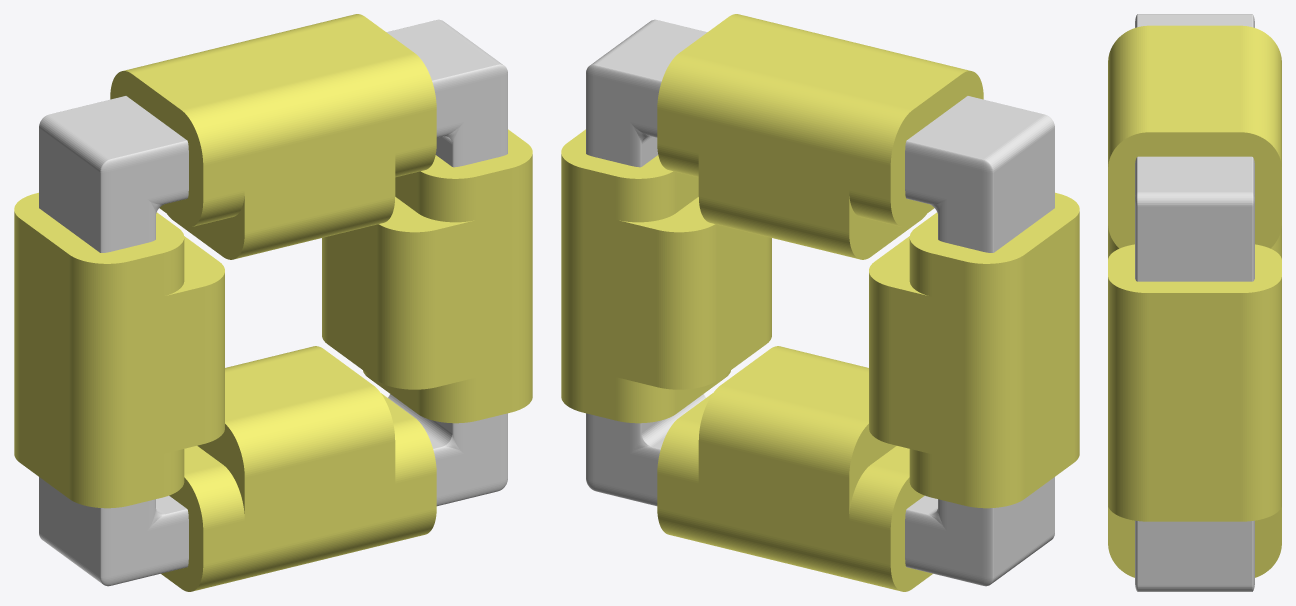
Rendered from CombinedCorrector.glb.
3 renders of one model, left to right at view 1: azimuth 30°, elevation 25°; view 2: azimuth 150°, elevation 25°; view 3: azimuth 270°, elevation 25°, orthographic. The views are drawn at different scales.
Parts seen in each view (by area): view 1: magnets, frame; view 2: magnets, frame; view 3: magnets, frame.
Part boxes in pixels (x1,y1,x2,y2): magnets: [14, 14, 532, 591]; frame: [39, 19, 507, 586]; magnets: [561, 14, 1079, 591]; frame: [586, 19, 1054, 586]; magnets: [1108, 25, 1281, 577]; frame: [1135, 14, 1254, 591].
Bounding box in the file's own units: 2.47 × 2.47 × 0.8686.
